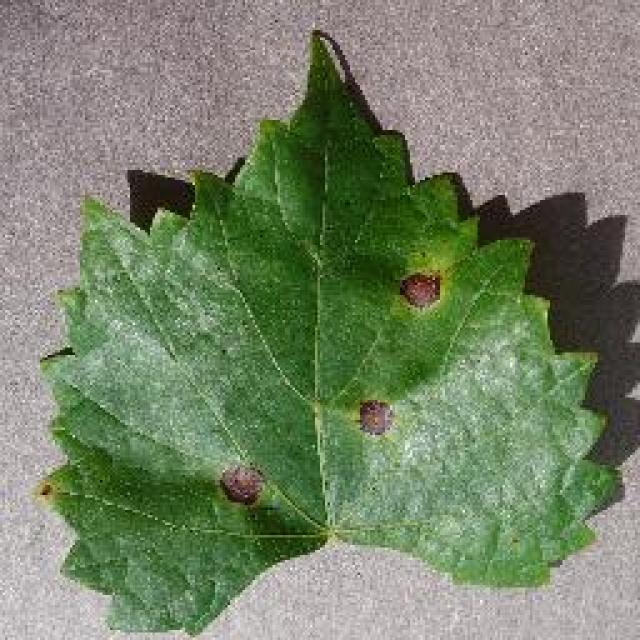Grape___Black_rot: (23, 29, 621, 634)
